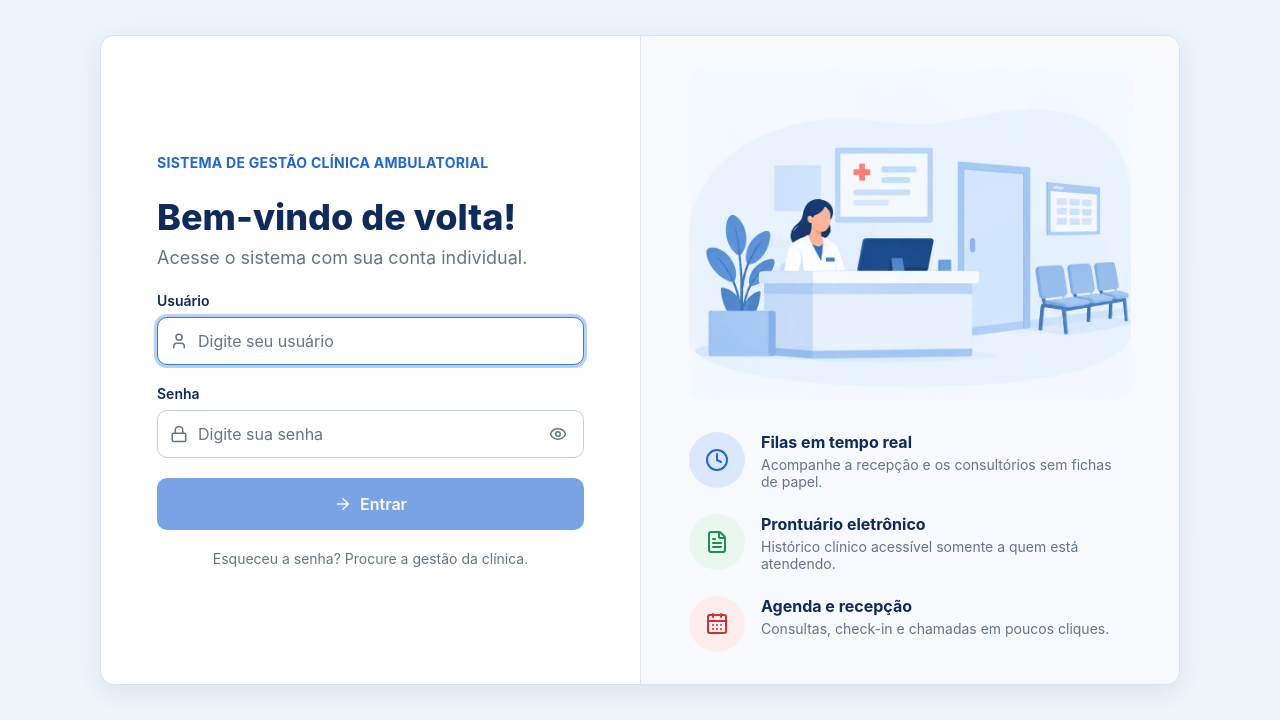
Test: LoginPage › exibe erro de credenciais e limpa a senha
This screenshot has width=1280, height=720.
Type "alguem" into the field labelled "Usuário" at (384, 340), box [196,330,571,352]
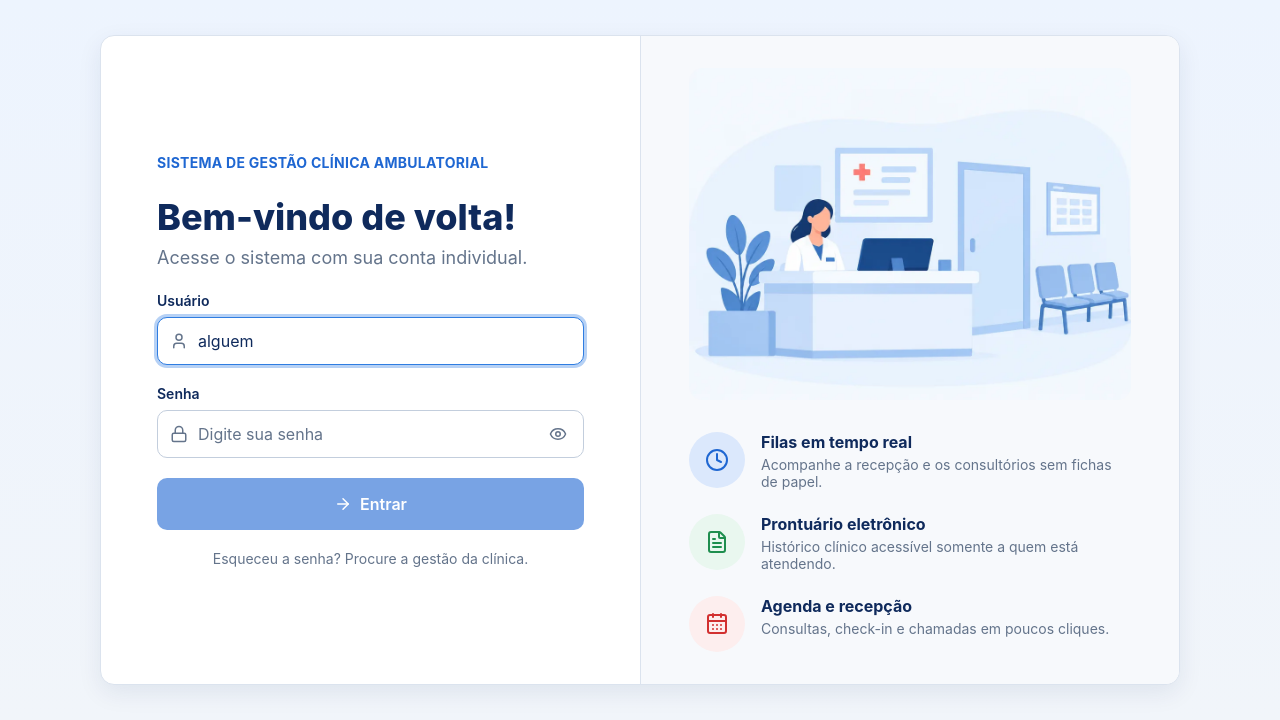
Type "errada" into the password field labelled "Senha" at (366, 434), box [196,422,537,444]
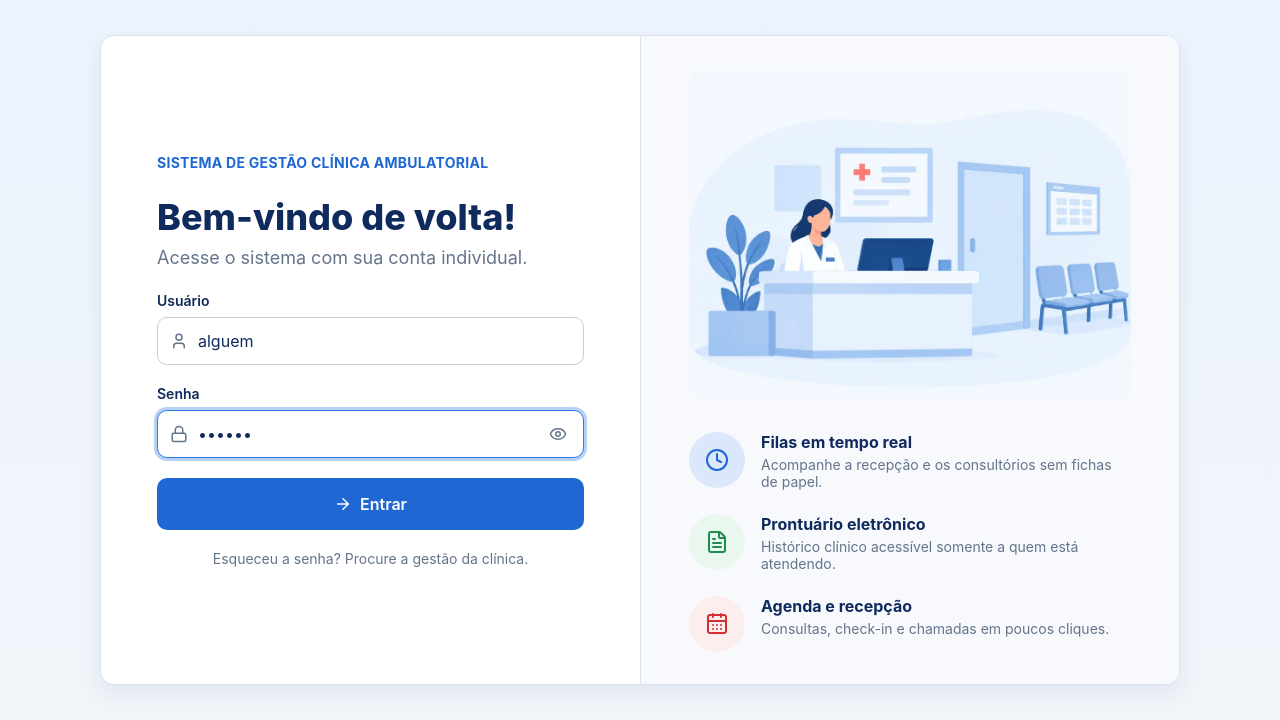
Click the button "Entrar" at (370, 504), box [157,478,584,530]
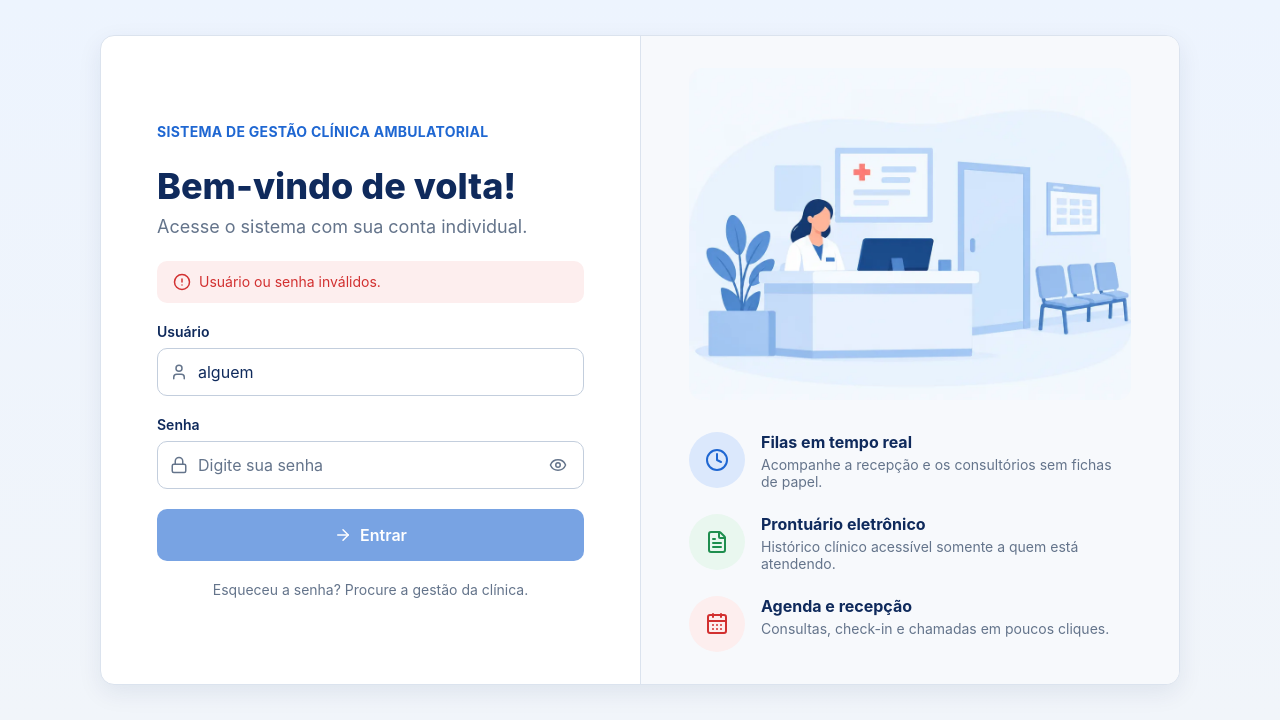
Result: the message reads "Usuário ou senha inválidos." at [199,272,381,290]
Result: the password field labelled "Senha" is empty at [196,454,537,476]
